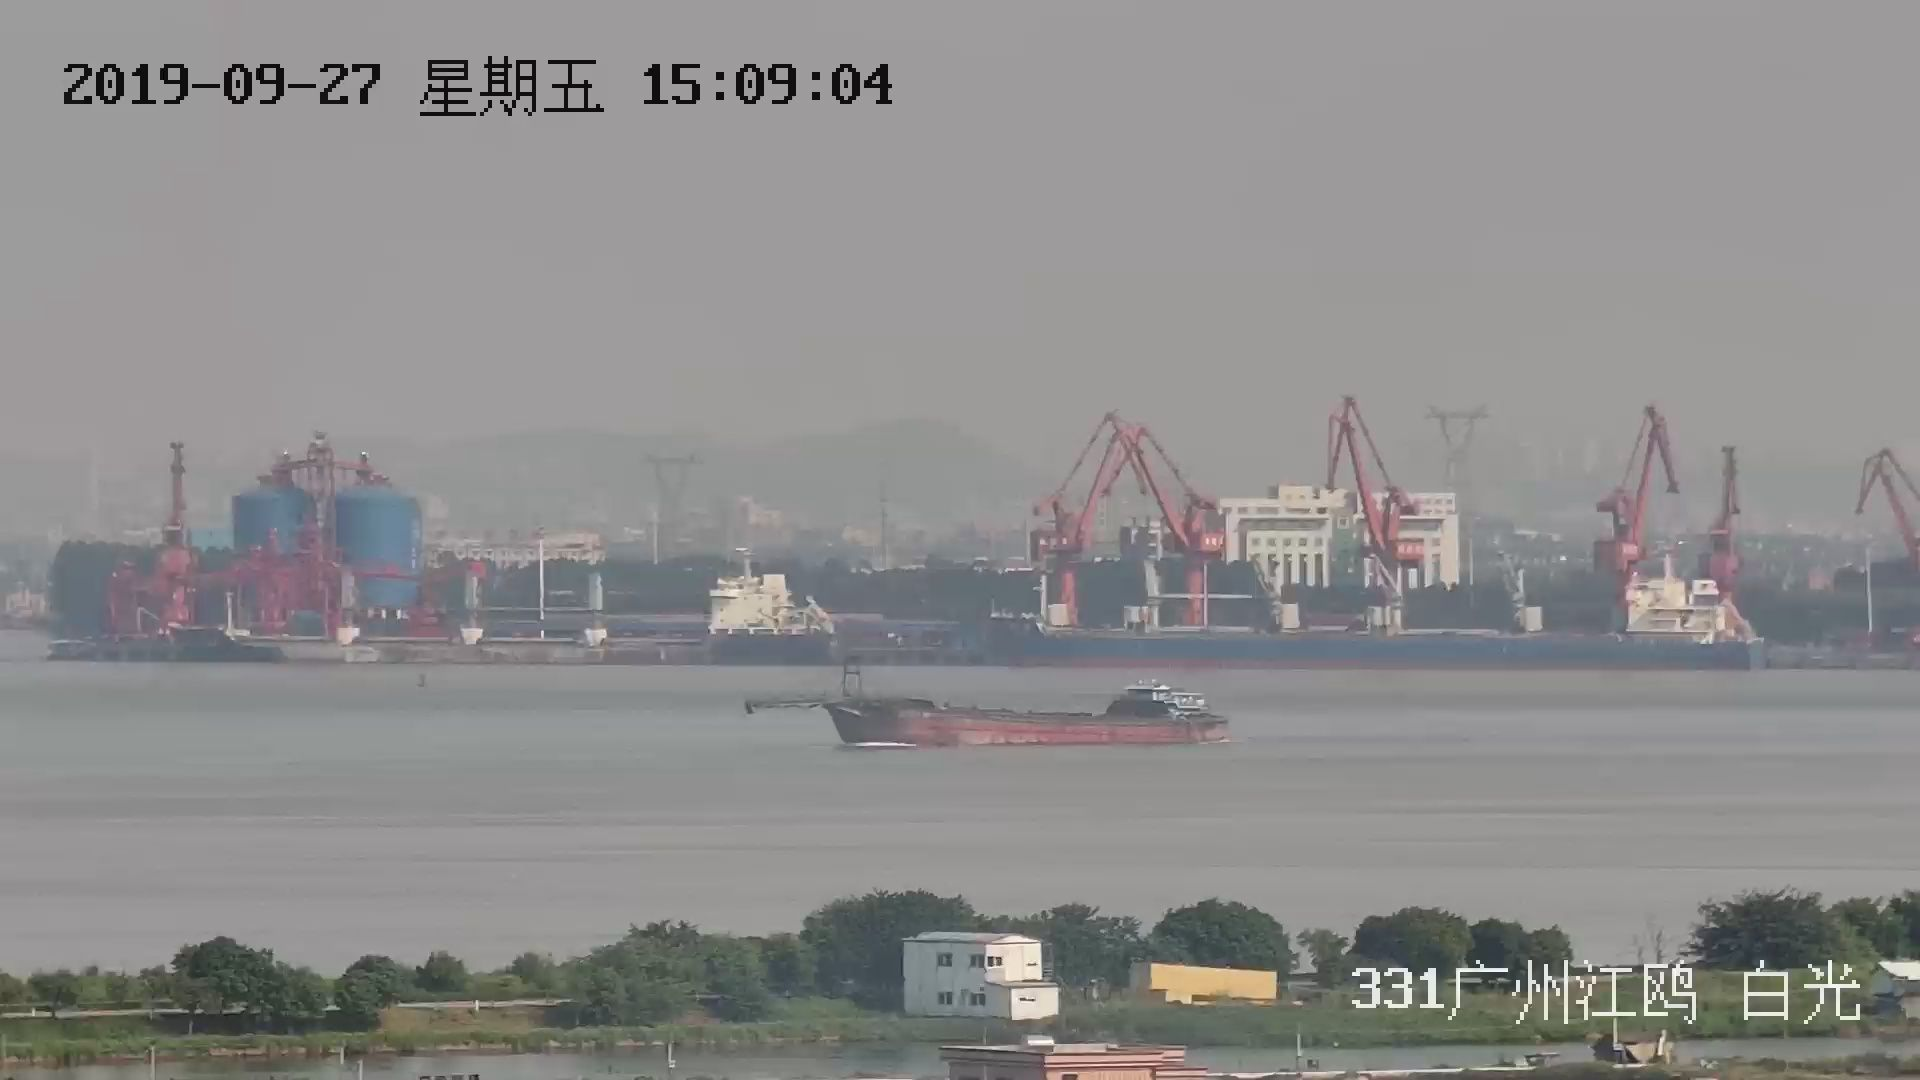ship: (750, 671, 1236, 746)
